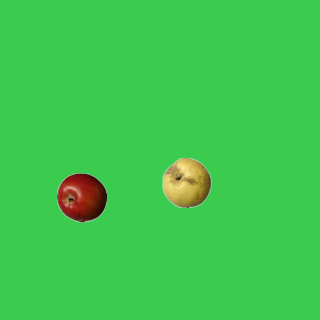Apple Braeburn: (56, 172, 106, 222)
Apple Golden 1: (161, 157, 211, 207)
